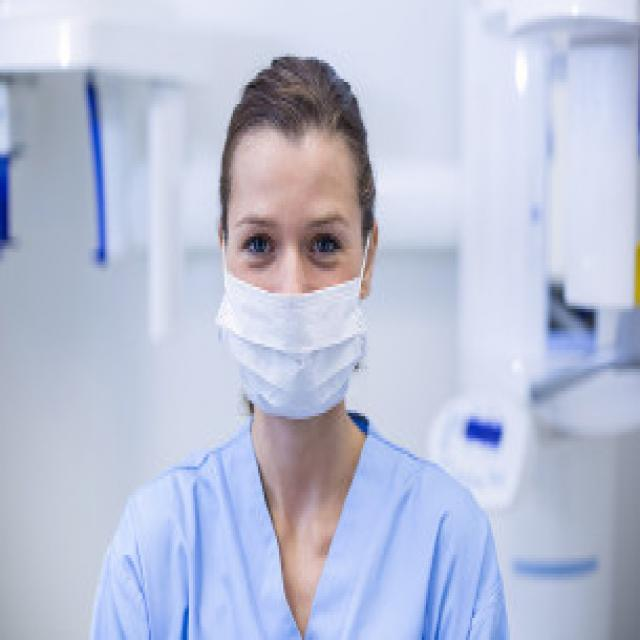mask: (219, 158, 356, 422)
